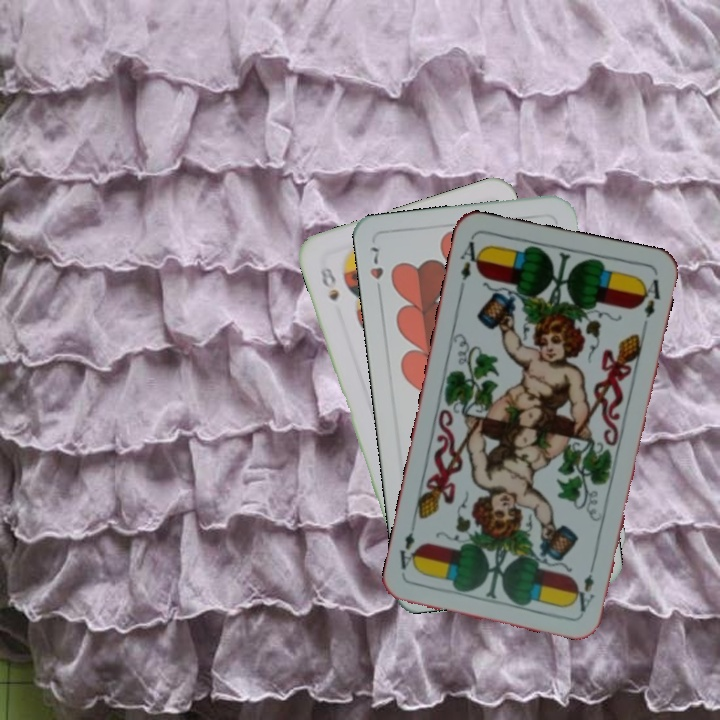EA: (455, 237, 485, 294), (575, 556, 598, 615)
H7: (365, 243, 386, 299)
S8: (316, 263, 342, 303)
